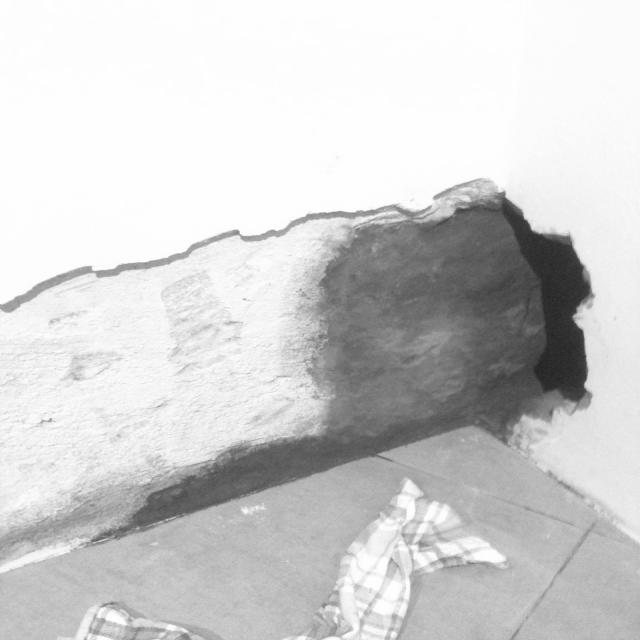Water_Leakage: (0, 144, 637, 580)
